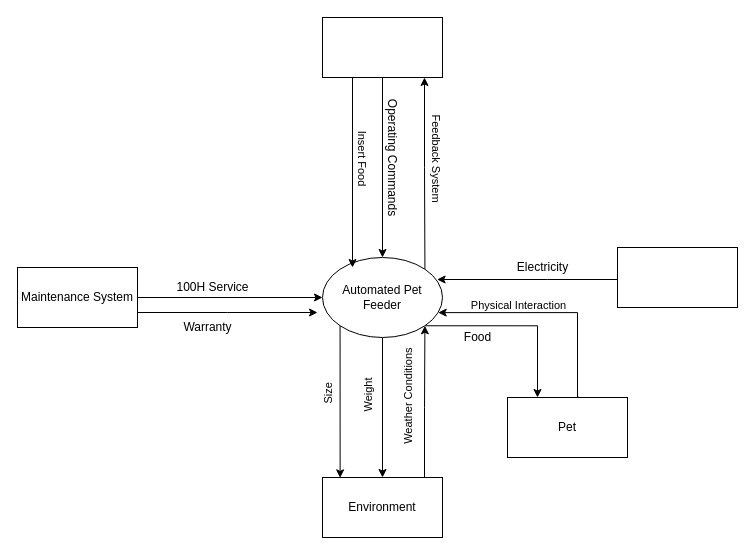
Image size: 755x555. Some labels were removed from this diagram. The shapes that lost their labels are listed below. From the top down, each one's centre as x and y in pixels, then its label:
(x=382, y=47): Operator
(x=677, y=277): Power Supply System
